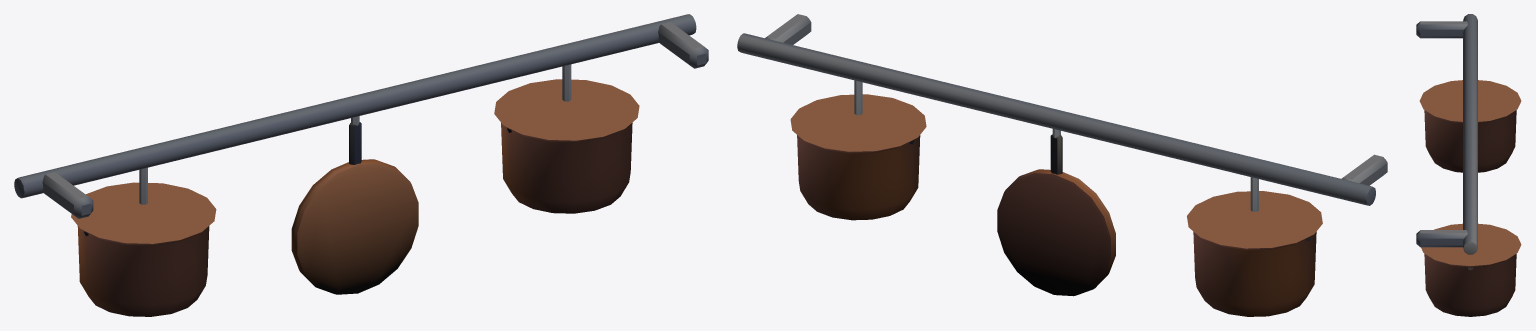
Rendered from PotRack.fbx.
The picture shows the model from 3 angles, left to right: view 1: azimuth 30°, elevation 25°; view 2: azimuth 150°, elevation 25°; view 3: azimuth 270°, elevation 25°; orthographic projection. The views are drawn at different scales.
Parts seen in each view (by area): view 1: SM_Prop_PotRack; view 2: SM_Prop_PotRack; view 3: SM_Prop_PotRack.
Boxes of the visible parts, x1,y1,x2,y2 form: SM_Prop_PotRack: [14, 14, 708, 316]; SM_Prop_PotRack: [737, 14, 1387, 316]; SM_Prop_PotRack: [1416, 14, 1521, 316].
Size of the model in its own units: 7 by 1.95 by 1.36.
